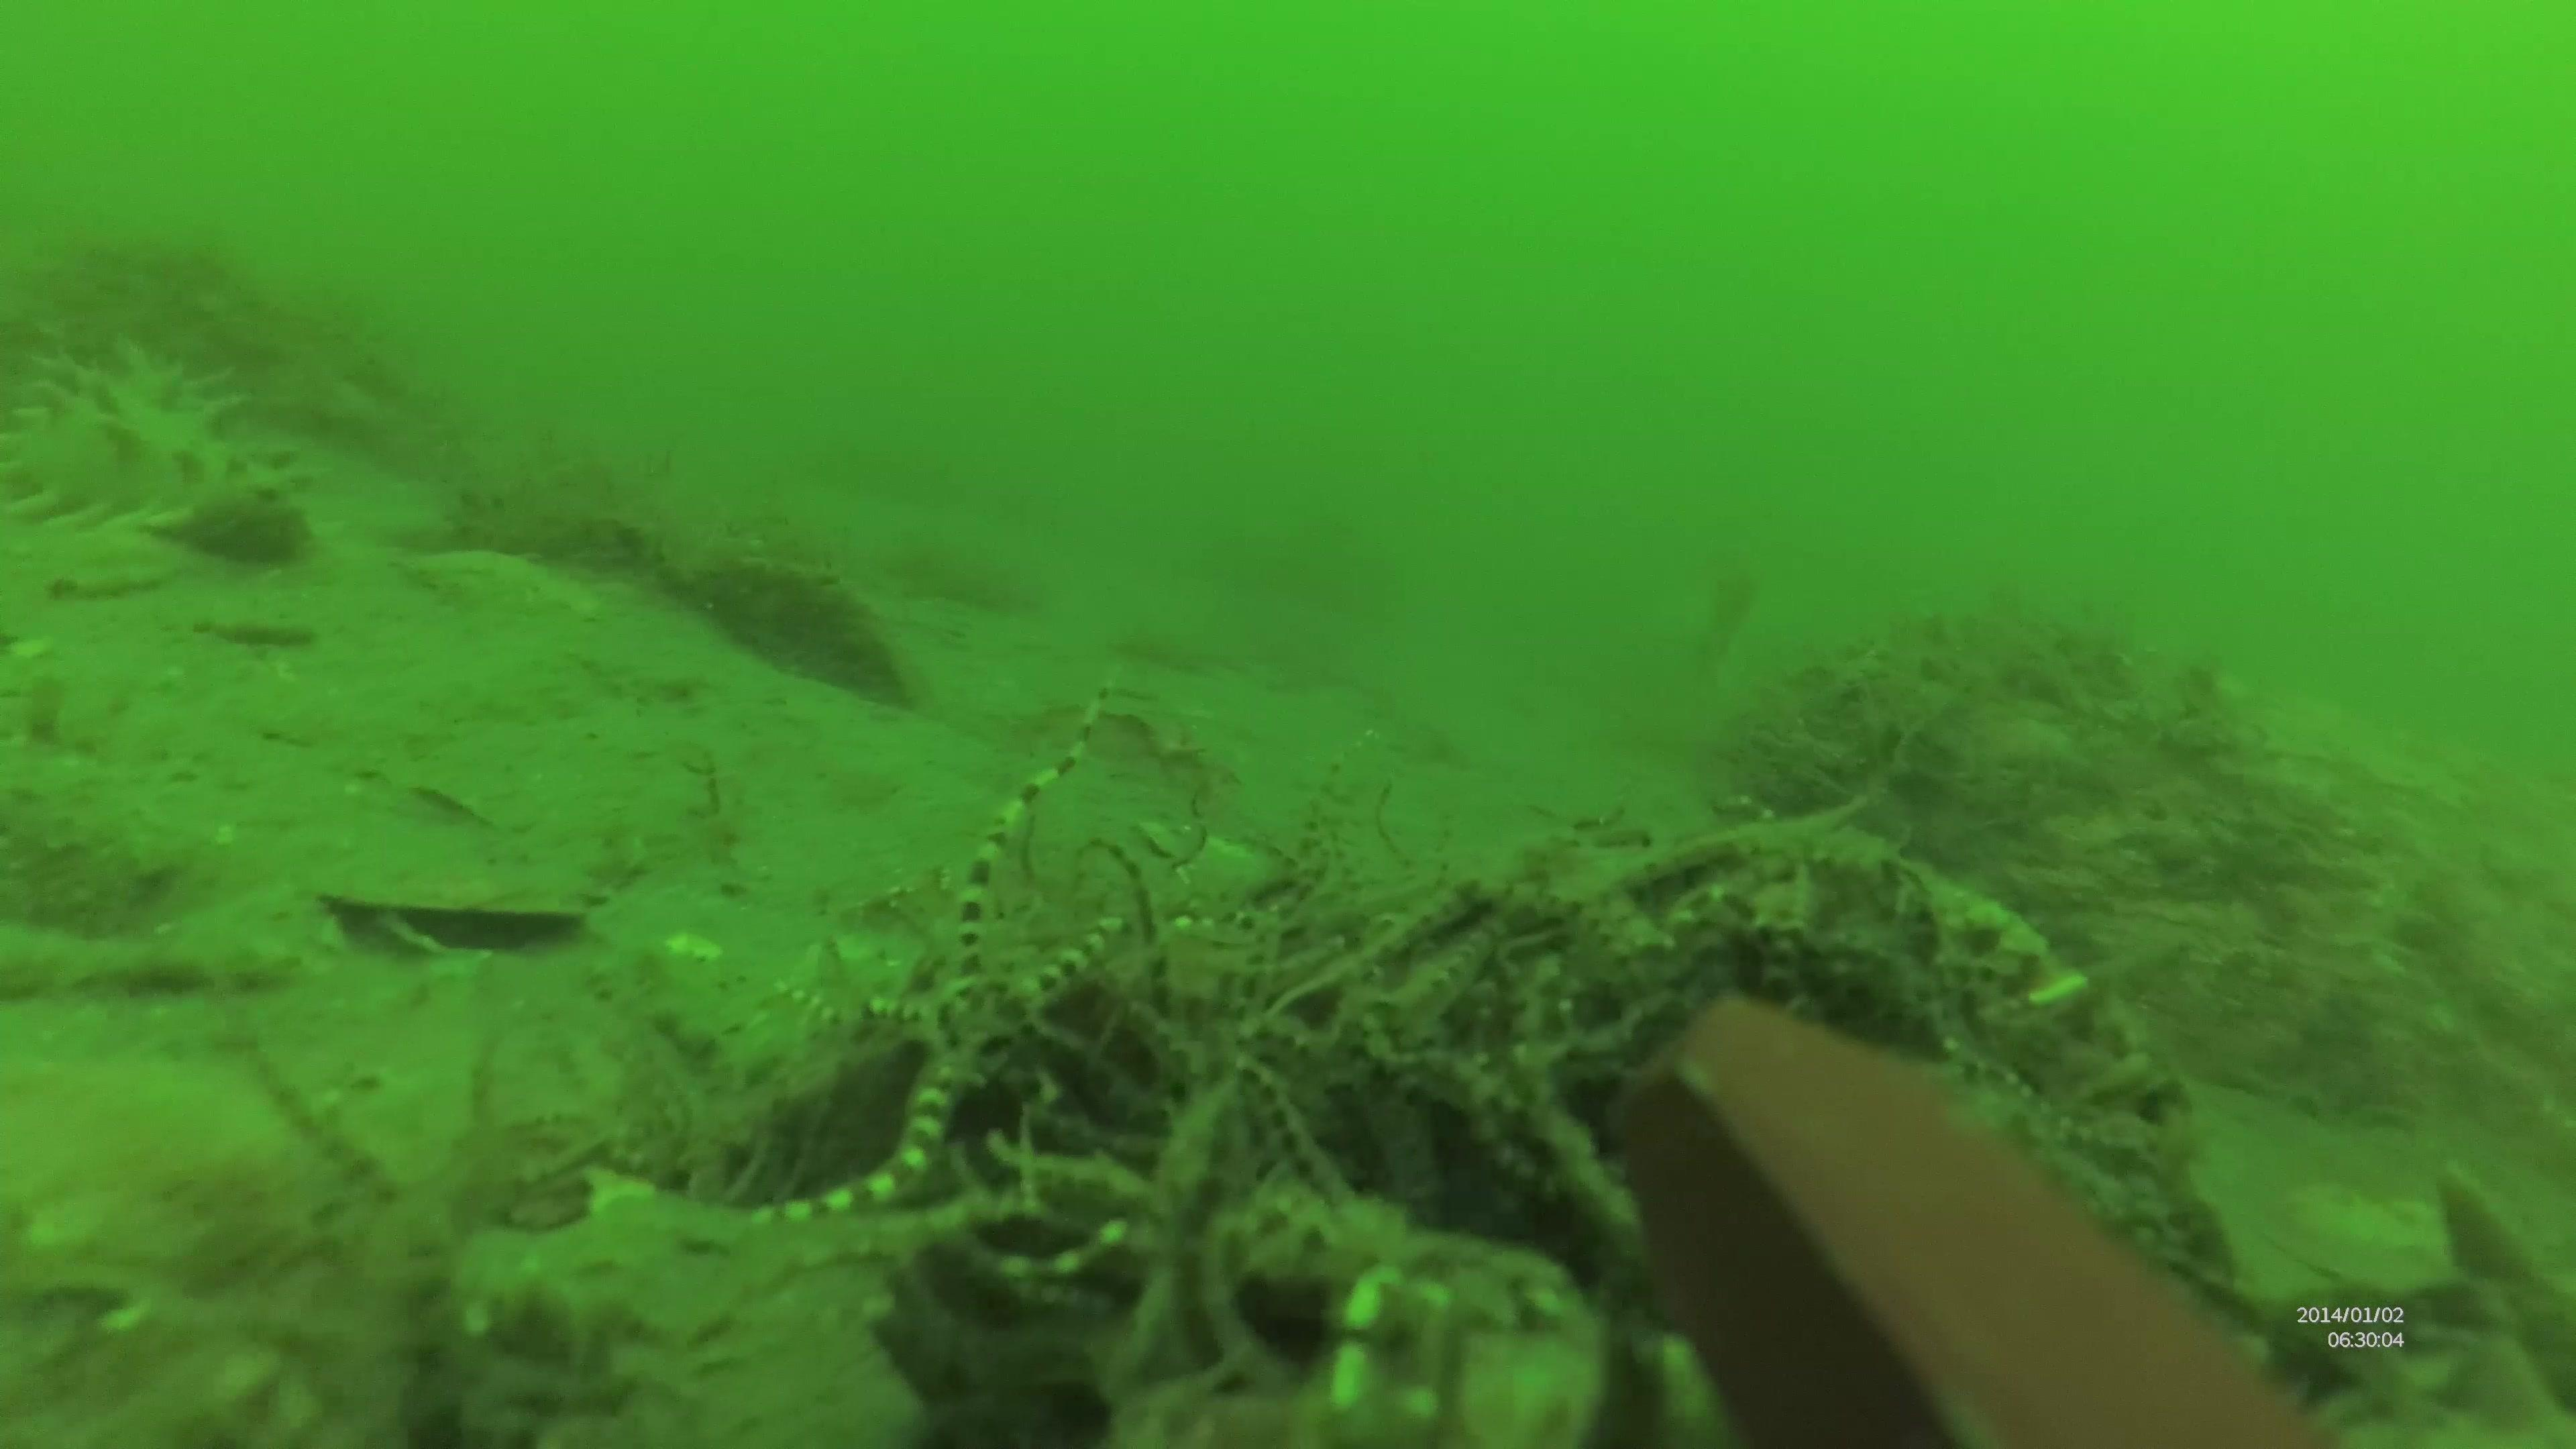holothurian: (0, 329, 315, 571)
